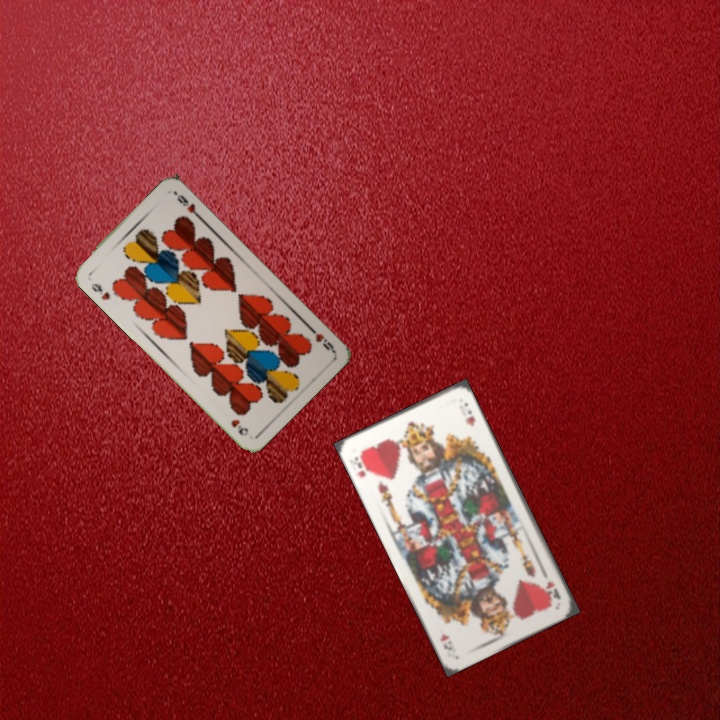H9: (304, 322, 337, 354), (87, 279, 113, 303)
HK: (350, 447, 373, 480), (542, 577, 563, 604)
